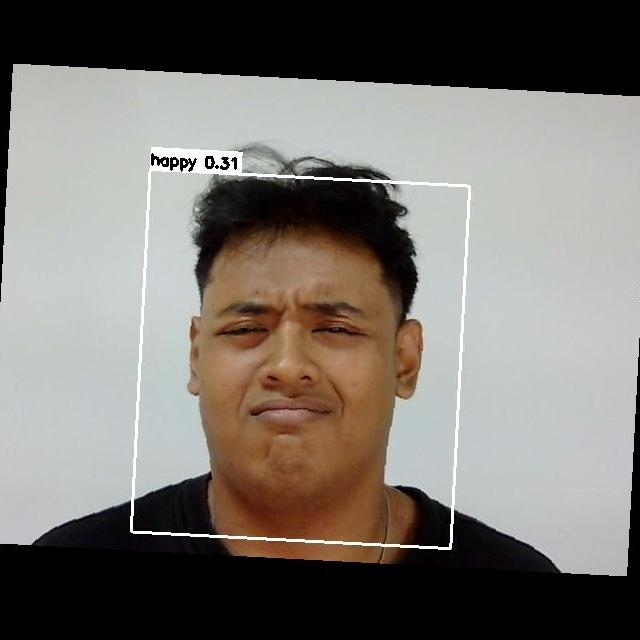Disgust: (195, 267, 397, 465)
